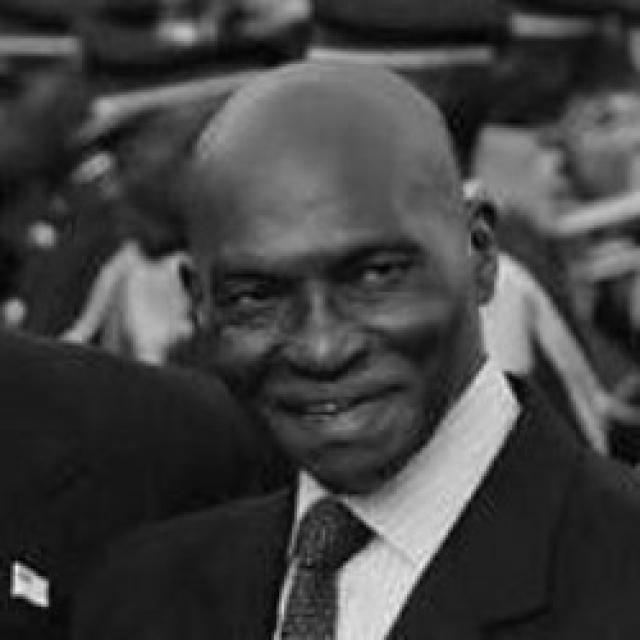real: (196, 130, 474, 482), (214, 251, 428, 317)
